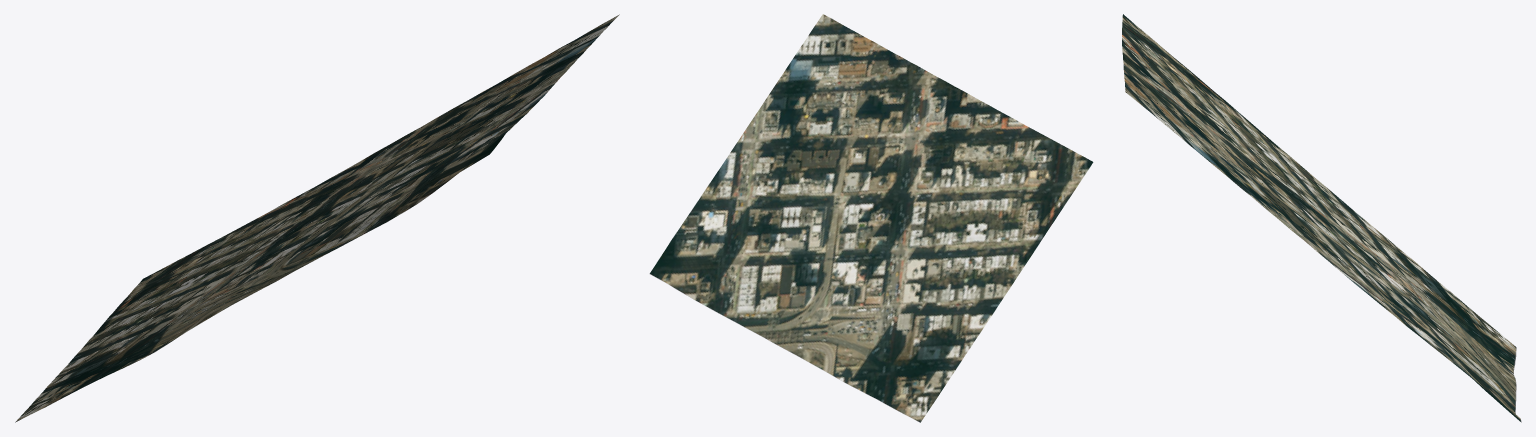
3 renders of one model, left to right at view 1: azimuth 30°, elevation 25°; view 2: azimuth 150°, elevation 25°; view 3: azimuth 270°, elevation 25°, orthographic. The views are drawn at different scales.
Size of the model in its own units: 527 by 420 by 356.
Materials: 1 (1 with a texture image).
